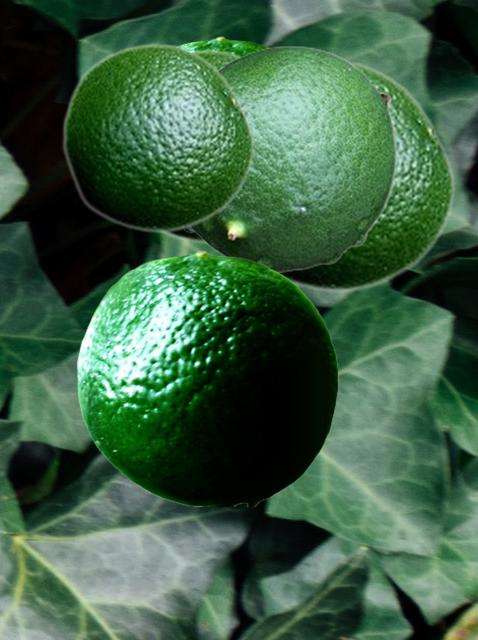calamansi: (77, 250, 337, 505), (182, 45, 396, 271), (280, 59, 455, 293), (61, 42, 254, 233), (158, 48, 241, 244), (181, 36, 267, 54)
